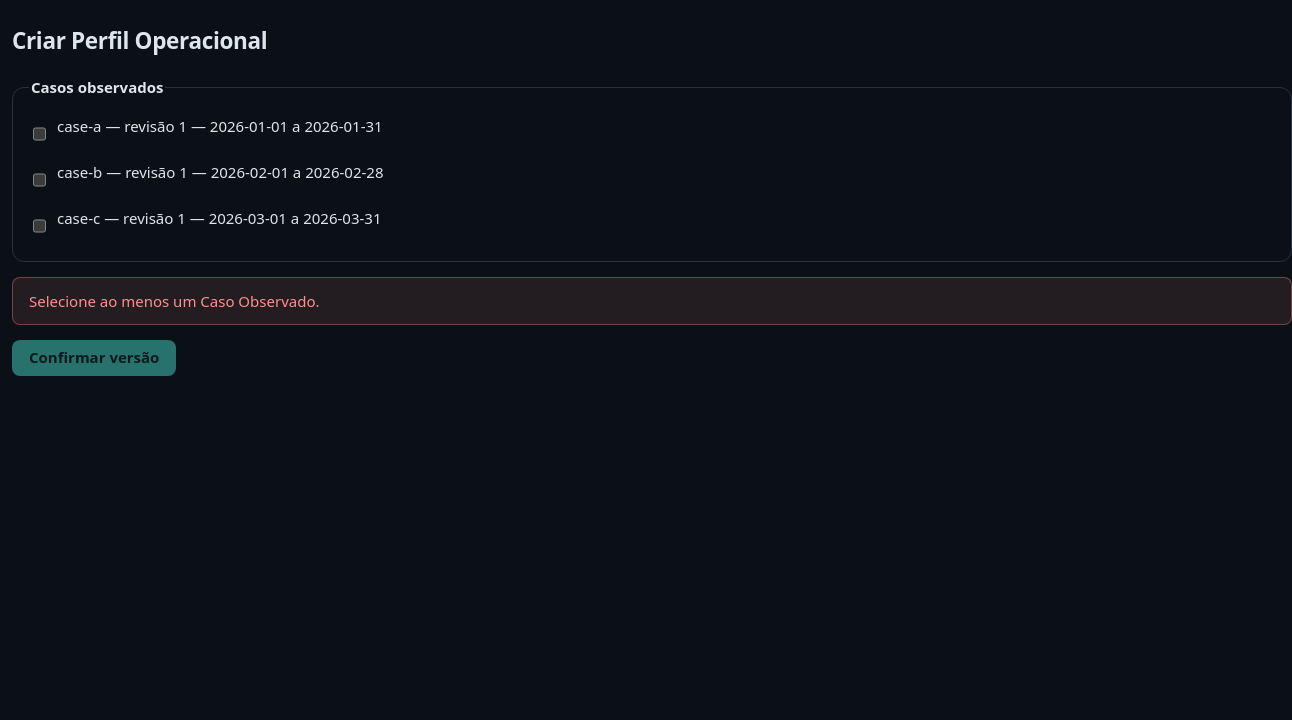
Test case: ProfileBuilder › bloqueia empresa misturada e SHA duplicado até confirmação explícita
What coordinates should you click on to do the following:
click the checkbox labelled "case-a — revisão 1 — 2026-01-01 a 2026-01-31"
I would click on:
 (40, 134)
Its box is left=33, top=118, right=46, bottom=150.
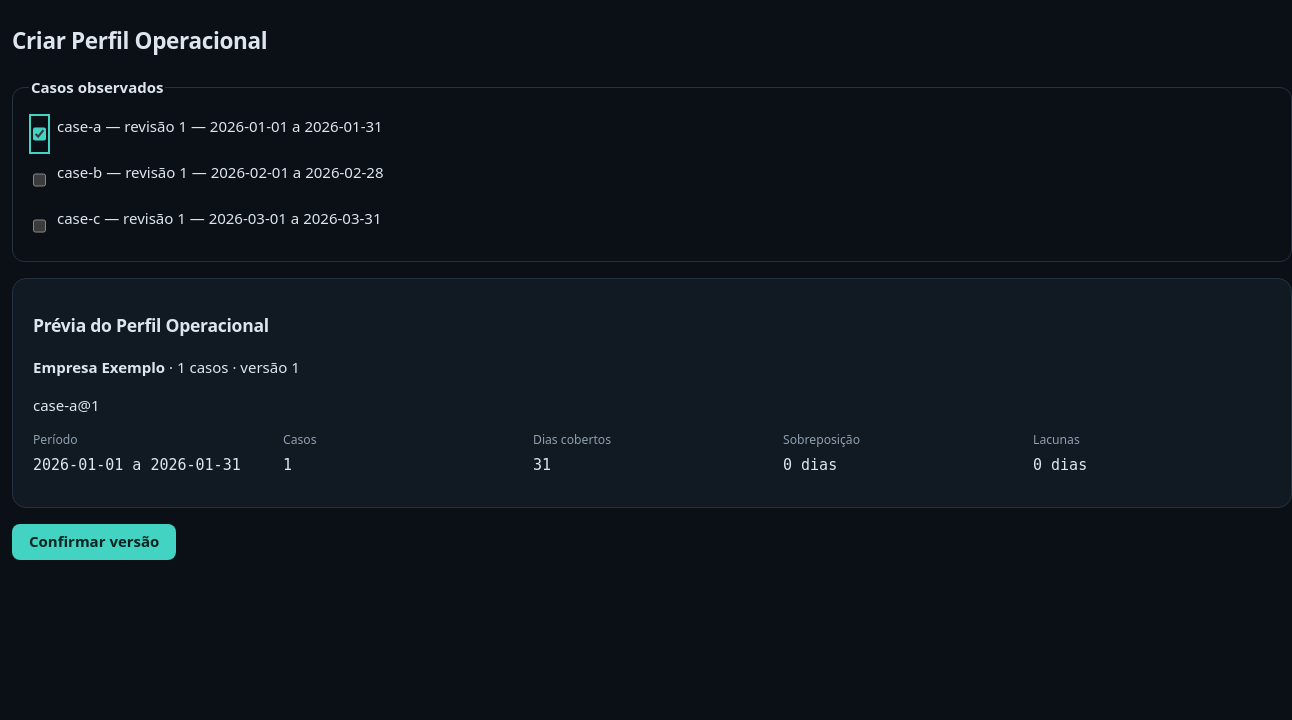
What coordinates should you click on to do the following:
click the checkbox labelled "case-b — revisão 1 — 2026-02-01 a 2026-02-28"
I would click on:
 (40, 180)
Its box is left=33, top=164, right=46, bottom=196.
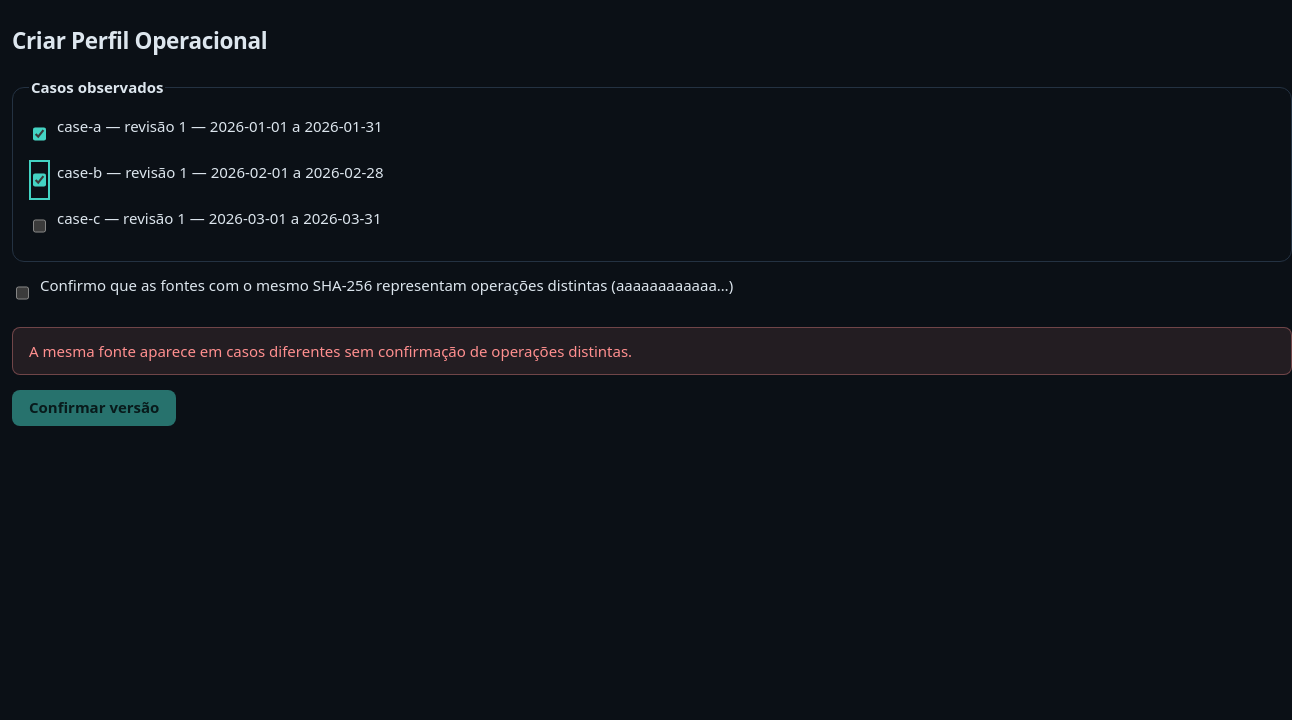
Result: the text "mesmo SHA-256" is shown at left=40, top=275, right=616, bottom=295
What coordinates should you click on to do the following:
click the checkbox labelled "operações distintas"
I would click on:
 (22, 293)
Its box is left=16, top=277, right=29, bottom=309.
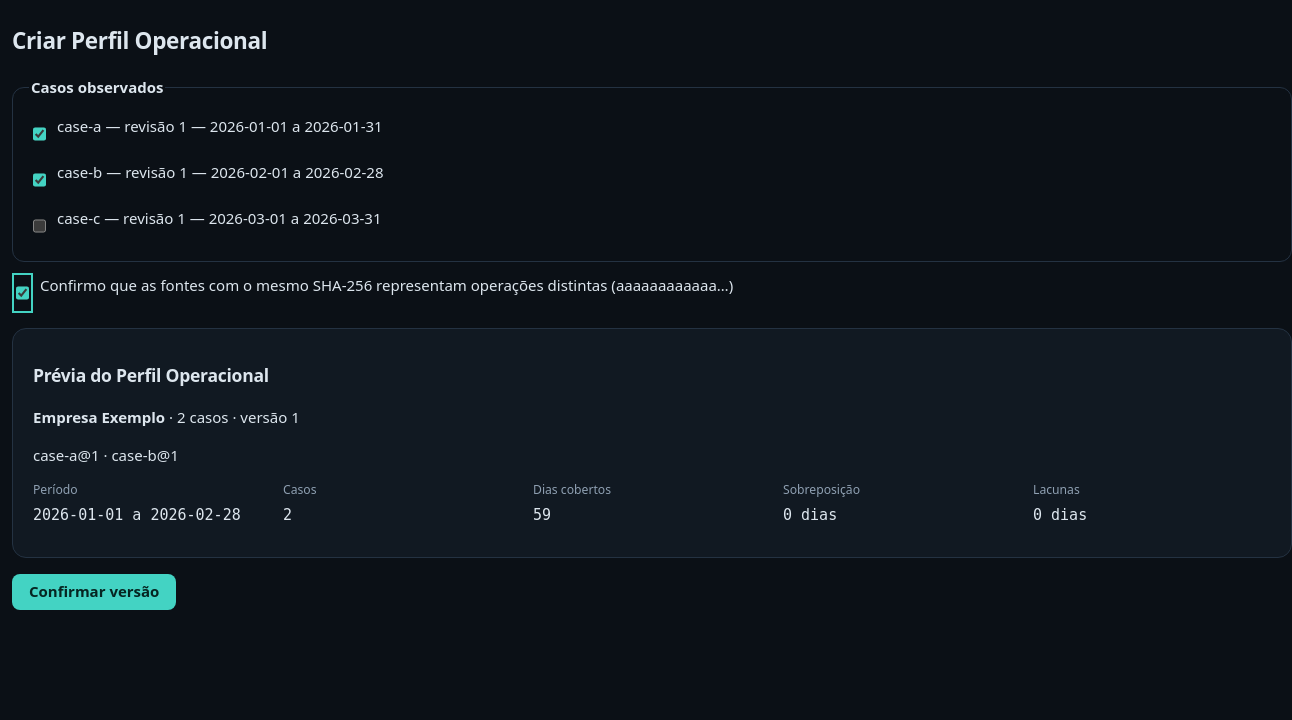
Result: the heading "Prévia do Perfil Operacional" is shown at left=33, top=364, right=269, bottom=388
What coordinates should you click on to do the following:
click the checkbox labelled "case-c — revisão 1 — 2026-03-01 a 2026-03-31"
I would click on:
 (40, 226)
Its box is left=33, top=210, right=46, bottom=242.
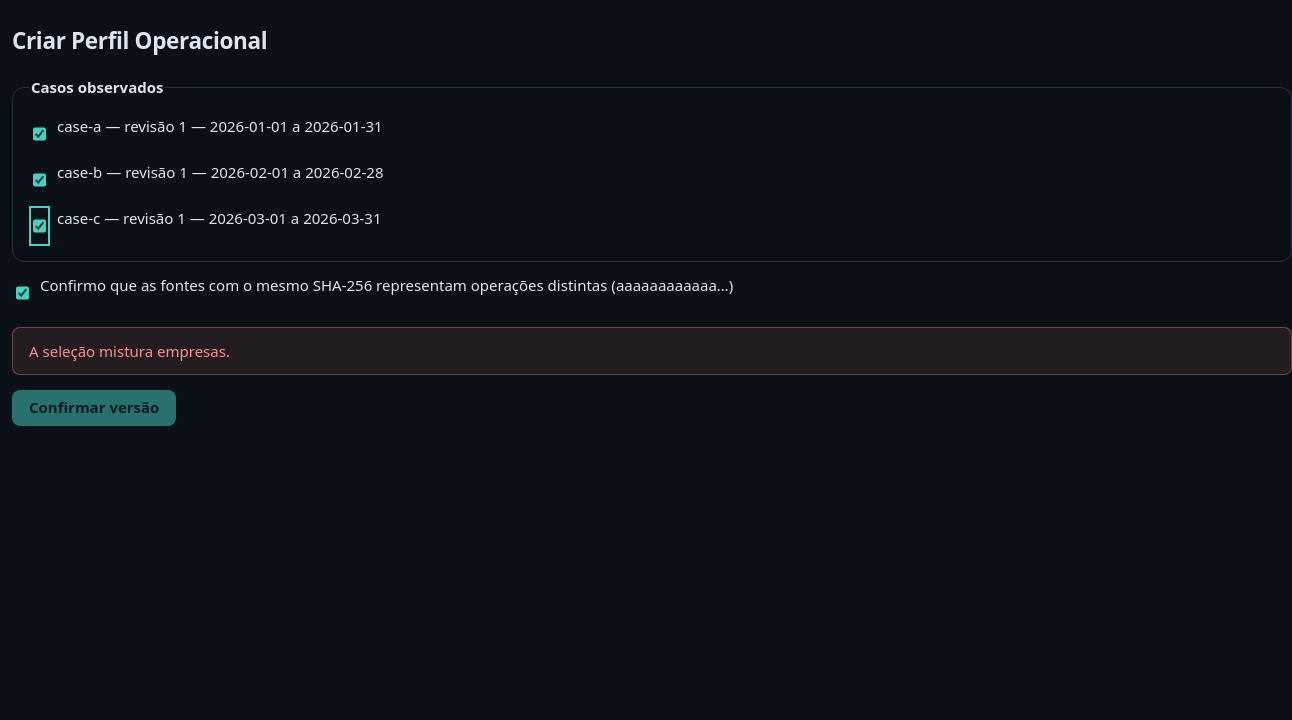
Result: the text "A seleção mistura empresas." is shown at left=12, top=327, right=1291, bottom=375
Result: the heading "Prévia do Perfil Operacional" is gone
